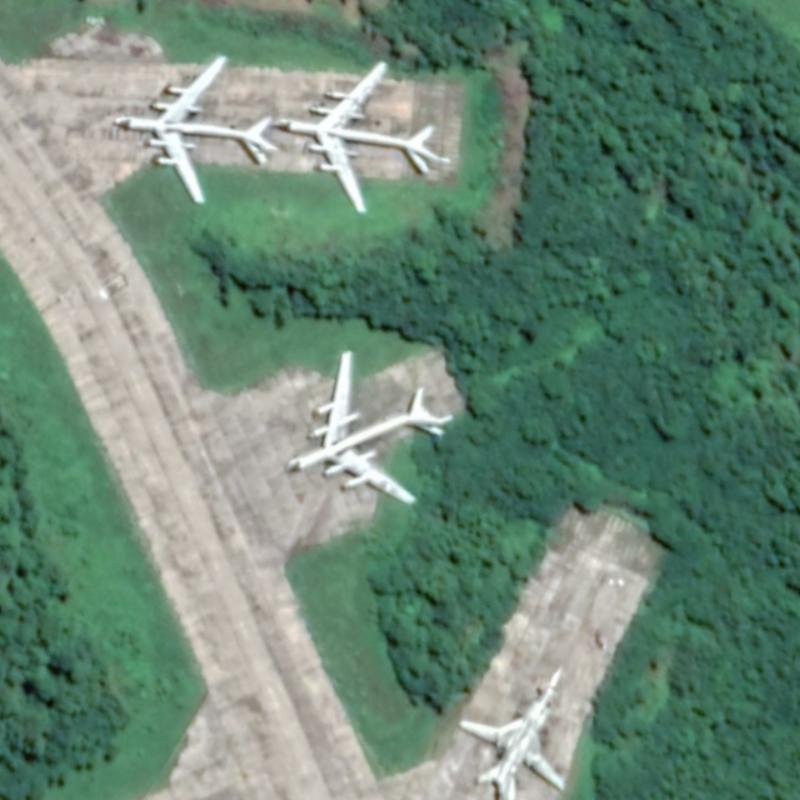A12: (456, 664, 568, 799)
A17: (272, 58, 450, 215), (282, 345, 454, 507), (109, 50, 281, 207)
